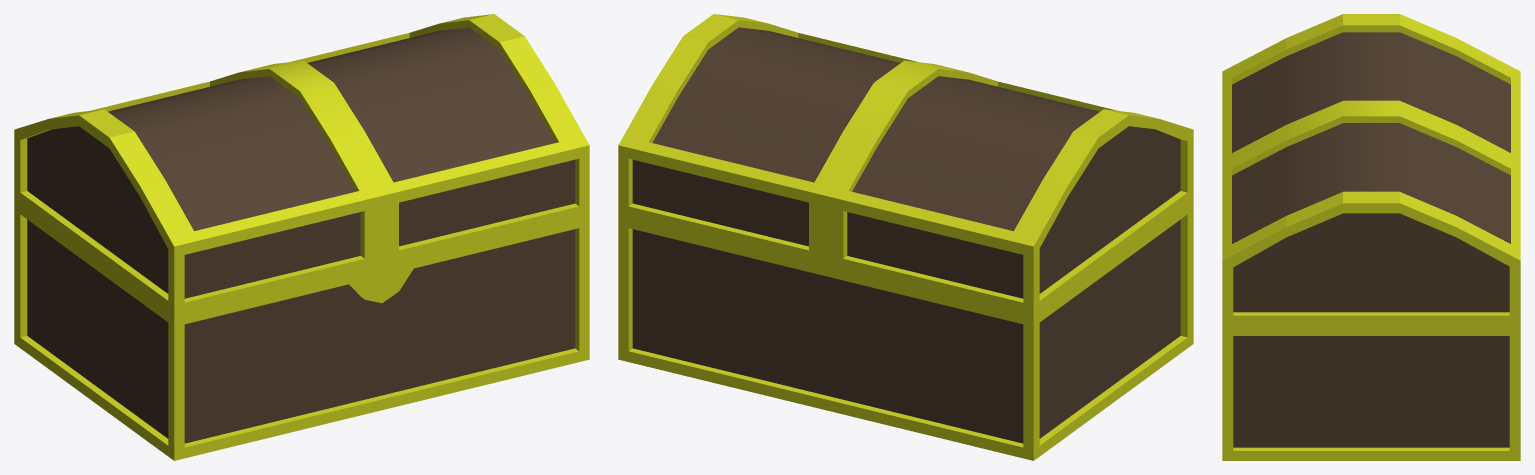
File: chest01.FBX
The picture shows the model from 3 angles, left to right: view 1: azimuth 30°, elevation 25°; view 2: azimuth 150°, elevation 25°; view 3: azimuth 270°, elevation 25°; orthographic projection. The views are drawn at different scales.
Visible parts, largest first — view 1: chest_top, chest_base; view 2: chest_top, chest_base; view 3: chest_top, chest_base.
Boxes of the visible parts, x1,y1,x2,y2 form: chest_top: (14, 14, 589, 315); chest_base: (14, 199, 589, 460); chest_top: (618, 14, 1193, 315); chest_base: (618, 199, 1193, 460); chest_top: (1222, 14, 1520, 325); chest_base: (1222, 325, 1520, 460).
Size of the model in its own units: 60 by 38.1 by 40.
